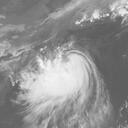cyclone: (23, 50, 98, 113)
